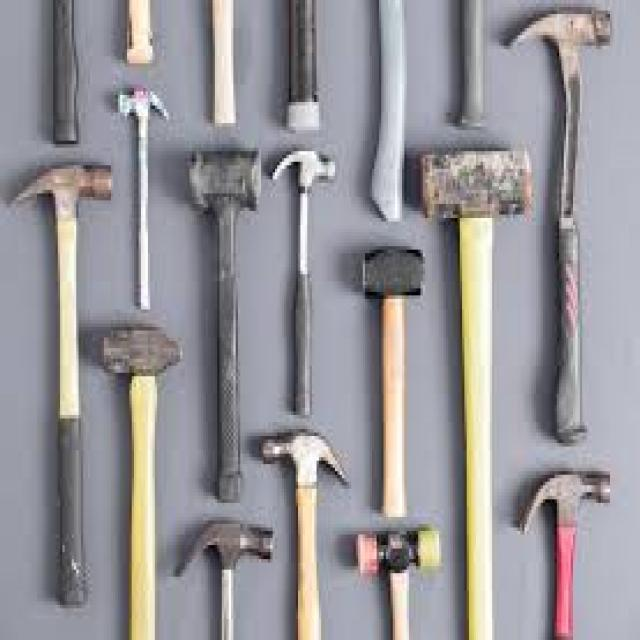Palu: (414, 126, 530, 640), (500, 5, 614, 451), (10, 154, 114, 618), (90, 310, 180, 640), (180, 131, 258, 489), (348, 227, 436, 529), (257, 422, 347, 628), (517, 463, 620, 640), (271, 138, 337, 412), (338, 502, 443, 638), (114, 70, 166, 292), (186, 516, 276, 640)
